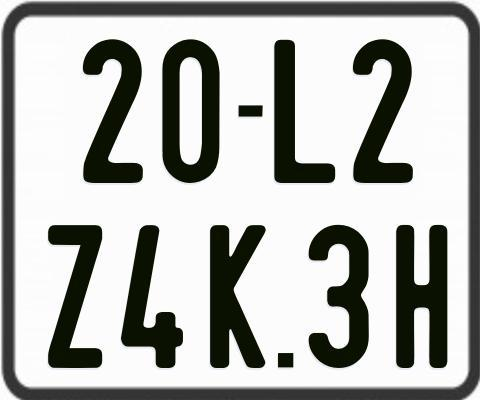0: (162, 39, 226, 185)
2: (353, 38, 415, 183), (81, 39, 141, 184)
3: (306, 223, 368, 369)
4: (120, 222, 187, 369)
H: (394, 222, 448, 365)
K: (208, 225, 265, 368)
L: (274, 38, 339, 181)
Z: (46, 223, 106, 366)
